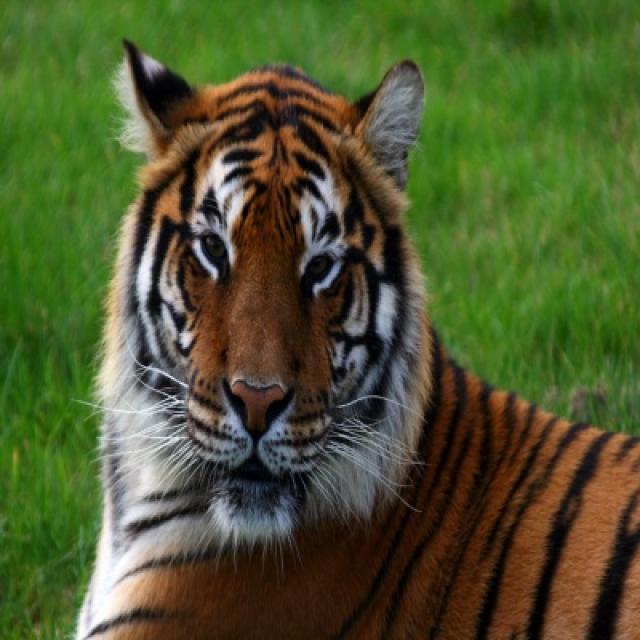Tiger: (69, 32, 638, 638)
